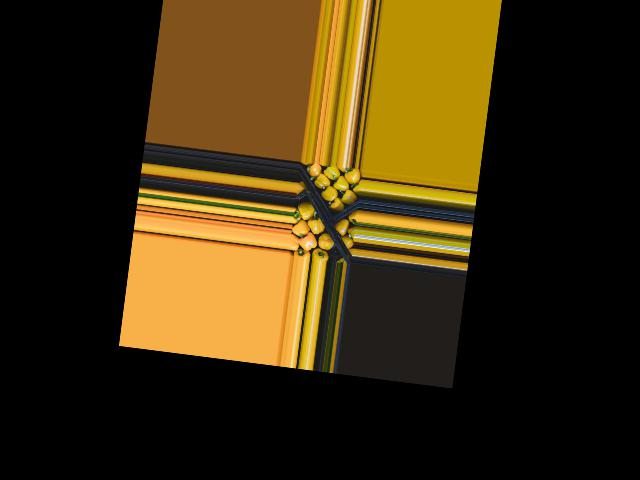bell_pepper: (345, 167, 363, 188)
